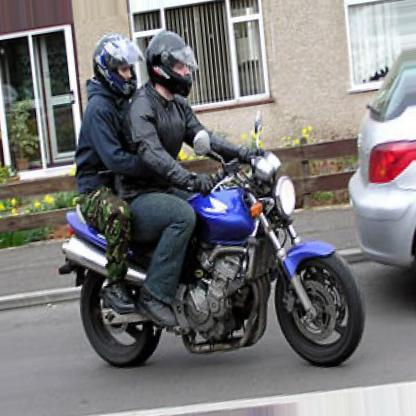with helmet: (143, 29, 199, 99), (91, 32, 146, 97)
